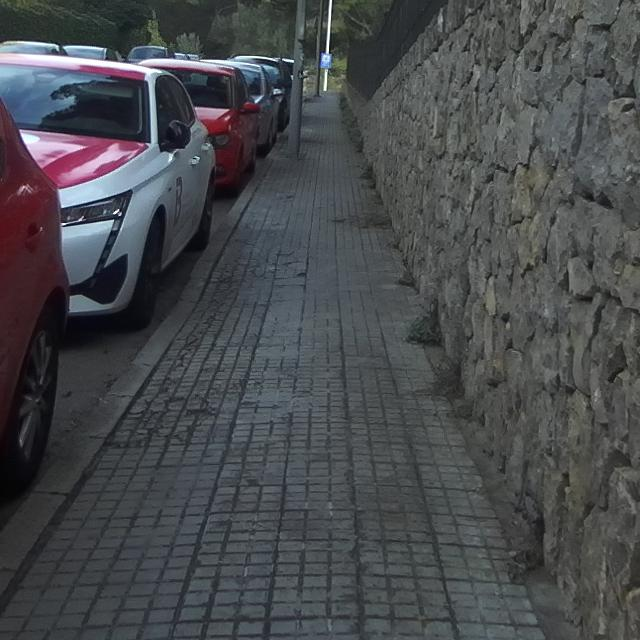calcada_quebrada: (165, 334, 199, 374), (168, 415, 210, 445), (140, 410, 157, 437), (250, 263, 275, 281), (219, 267, 236, 291), (279, 259, 305, 274), (193, 392, 213, 411), (164, 395, 185, 409)
